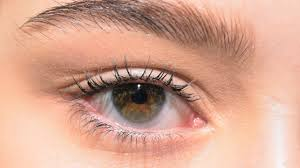pupil: (113, 84, 165, 122)
